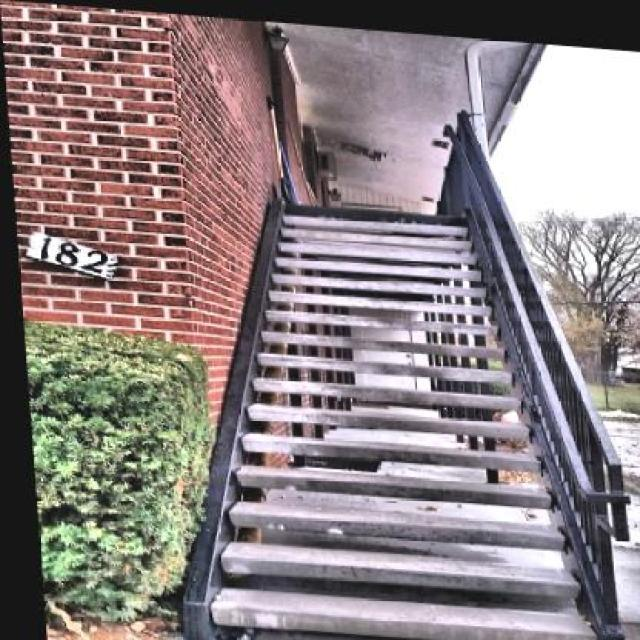stair: (144, 124, 638, 638)
